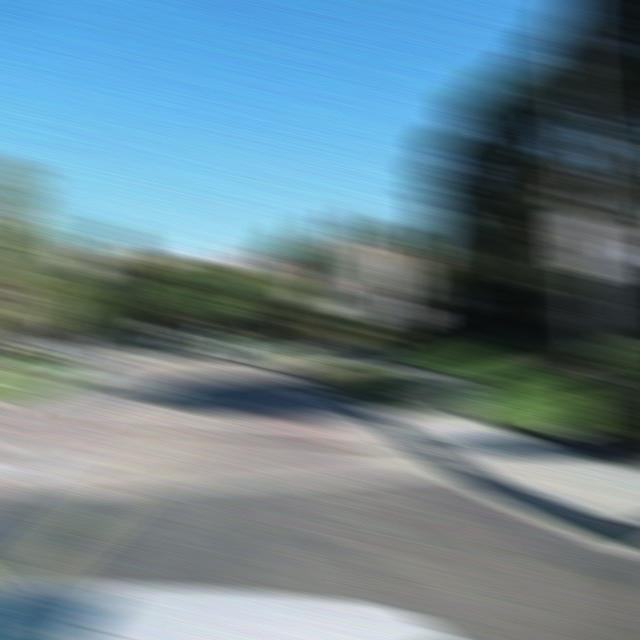speedLimit25: (558, 212, 617, 281)
